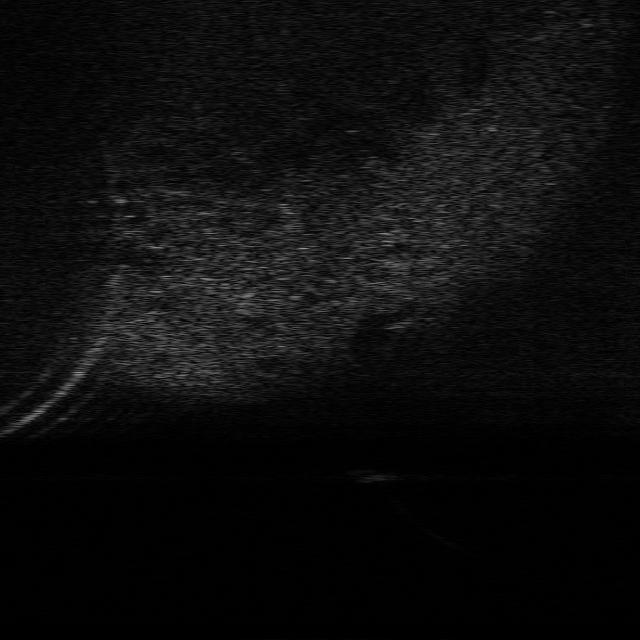cube: (349, 465, 400, 485)
